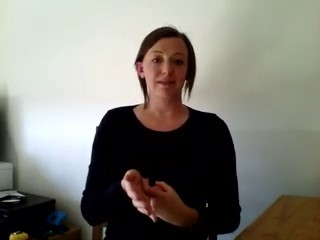R: (118, 162, 208, 231)
